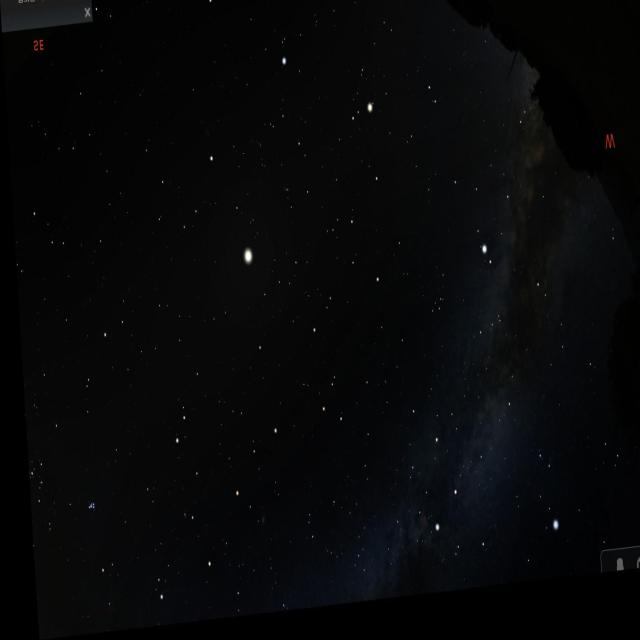aquila: (445, 108, 541, 283)
cygnus: (416, 405, 521, 572)
lyra: (524, 457, 556, 559)
pleiades: (73, 483, 98, 529)
taurus: (21, 423, 94, 540)
